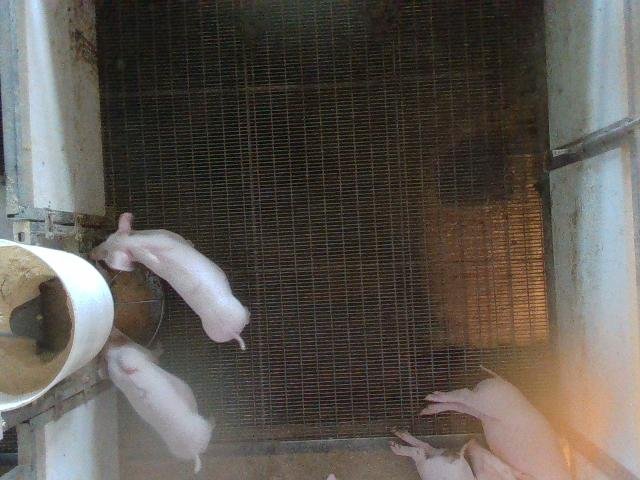pig-5: (104, 329, 211, 472)
